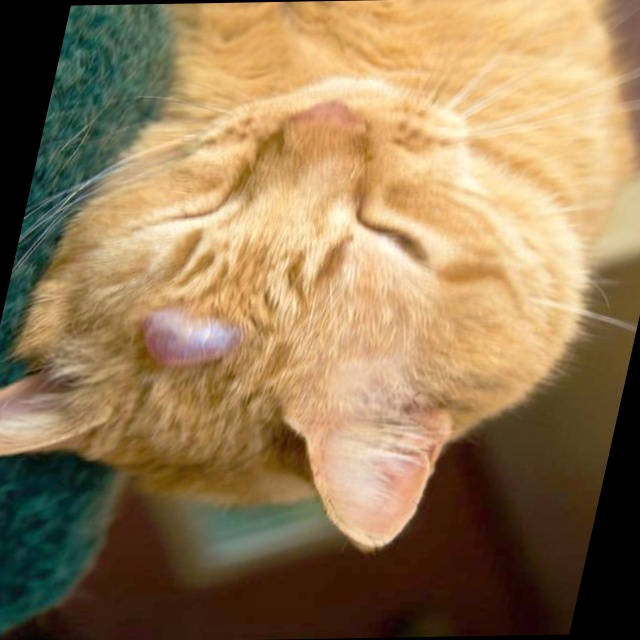lump_and_bump: (128, 312, 245, 365)
